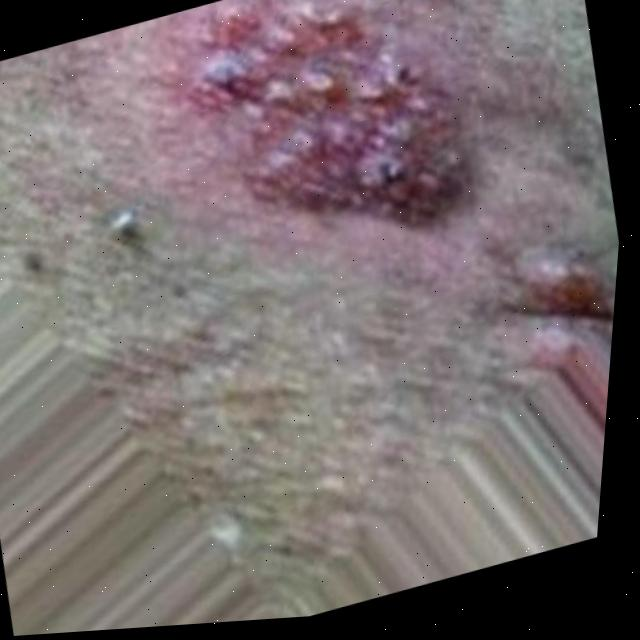Shingles: (183, 0, 483, 260)
